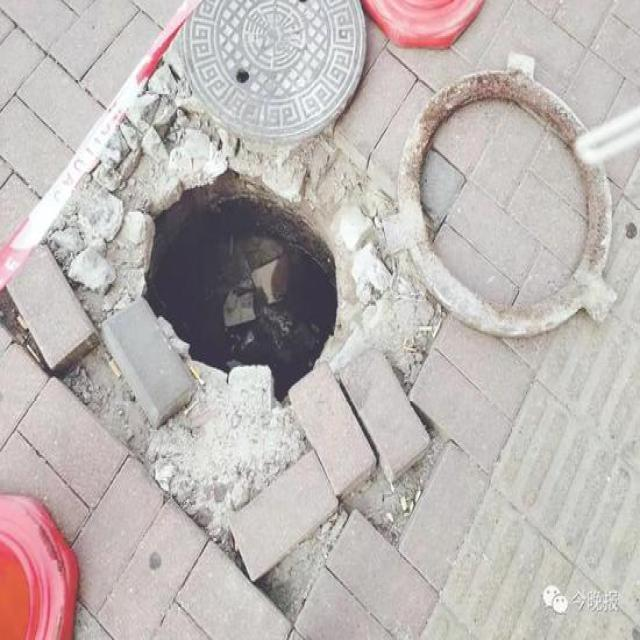manhole: (144, 170, 343, 404)
